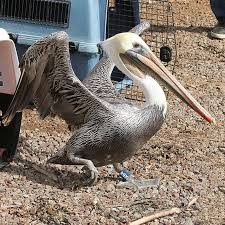pelican: (7, 23, 216, 188)
